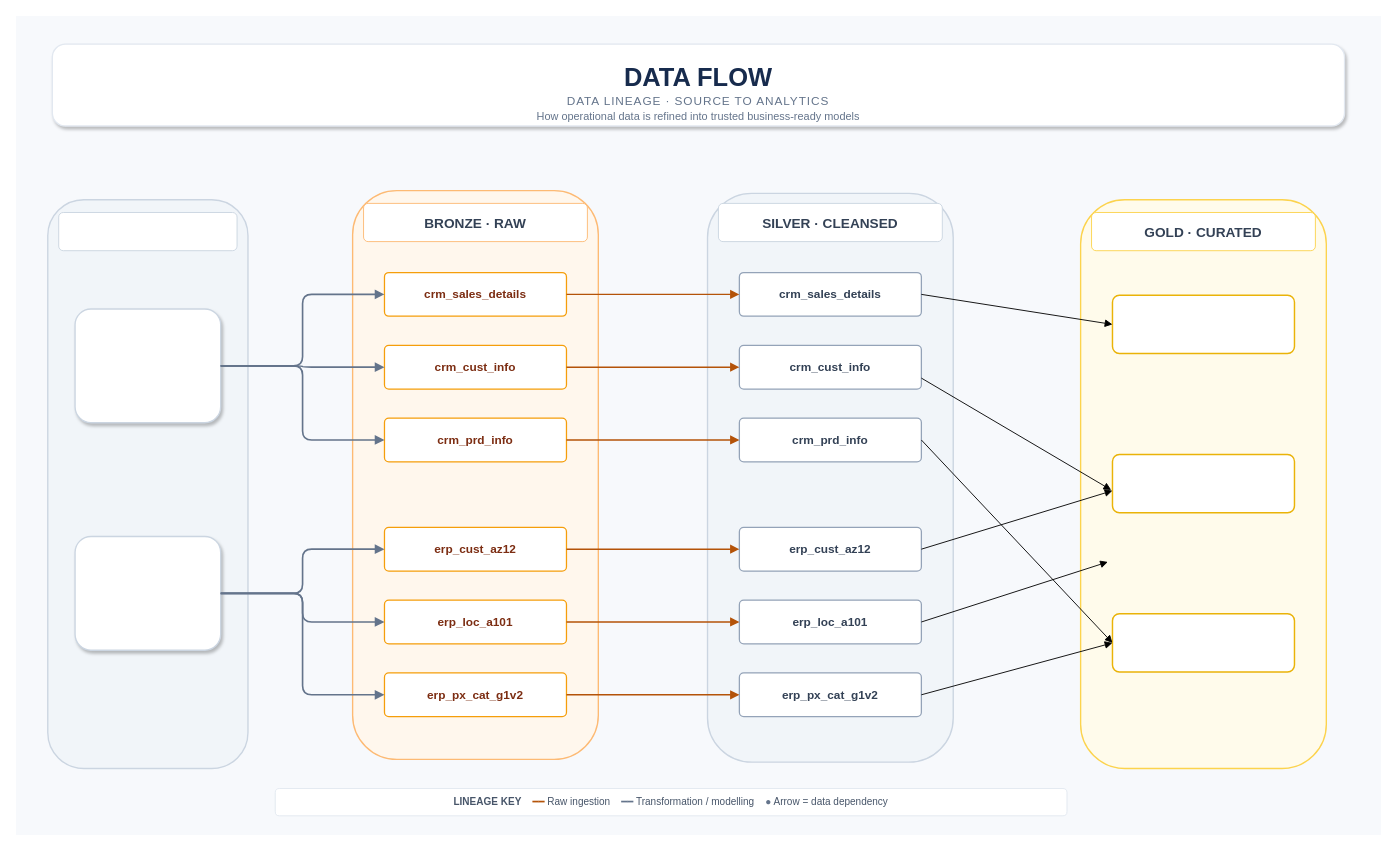
Some shapes in this 1396 by 850 pixel diagram are drawn without their labels. The shapes that lost their labels are listed below. From the top down, each one's centre as x and y in pixels, then its label:
point (147, 231): SOURCE SYSTEMS
point (1203, 324): fact_sales Sales transactions
point (148, 366): 📁 CRM Customer & sales
point (1203, 483): dim_customers Customer profile
point (148, 594): 📁 ERP Enterprise operations
point (1203, 642): dim_products Product catalogue
